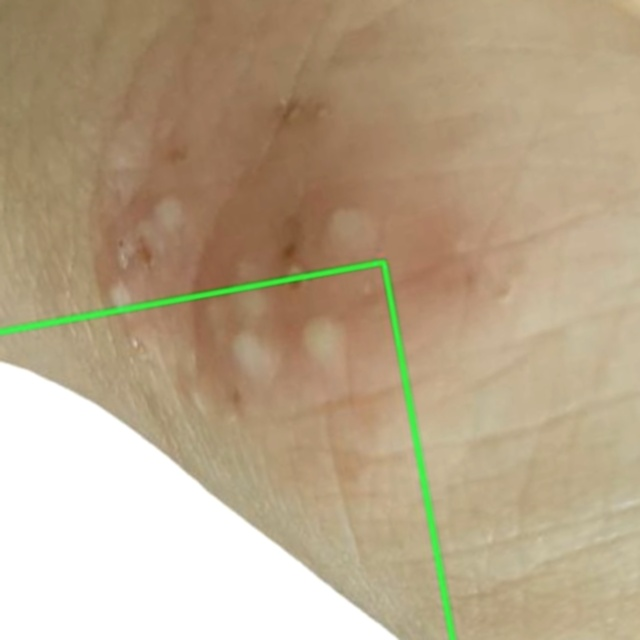Scabies: (0, 262, 452, 639)
